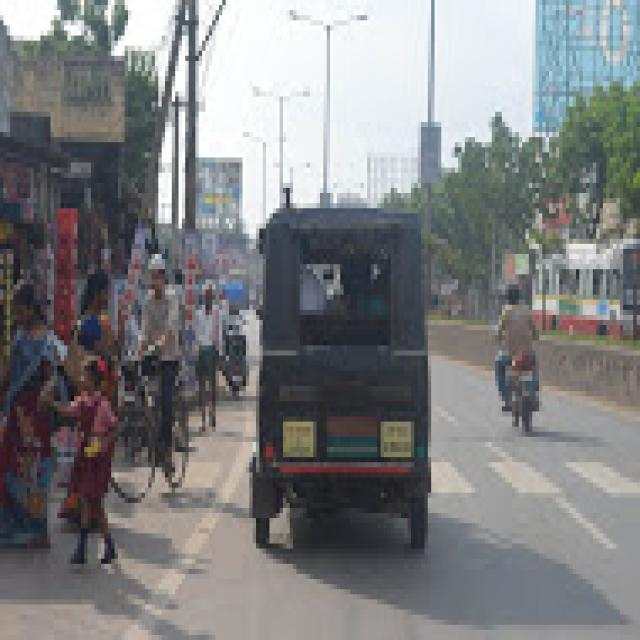auto_back: (240, 188, 444, 554)
two_wheeler_back: (484, 304, 550, 434)
